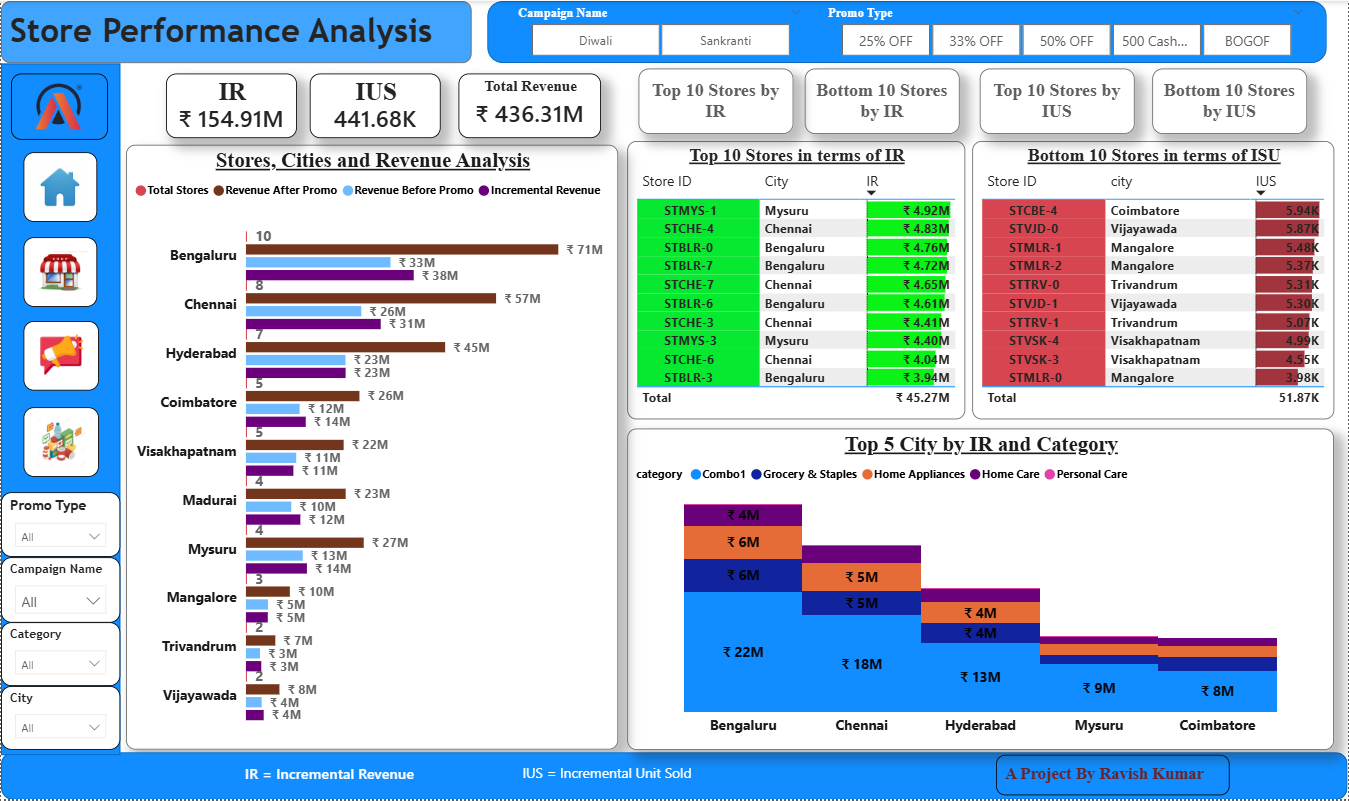

What the dashboard file says about the page in this screenshot:
{"tool":"powerbi","page":{"name":"Store Performance Analysis","canvas":[1300,771],"ordinal":1},"visuals":[{"type":"textbox","box":[0,0,454.2,60.4],"z":0},{"type":"tableEx","title":"Top 10 Stores in terms of IR","fields":{"Values":["dim_stores.store_id","dim_stores.city","Measures (2).Incremental Revenue"]},"box":[605,134.9,326.1,268.4],"z":1000},{"type":"shape","box":[469.6,0,810.7,59.9],"z":2000},{"type":"clusteredBarChart","title":"Stores, Cities and Revenue Analysis","fields":{"Category":["dim_stores.city"],"Y":["CountNonNull(dim_stores.store_id)","Measures (2).Revenue After Promo","Measures (2).Revenue Before Promo","Measures (2).Incremental Revenue"]},"box":[120.5,138.8,475.3,584],"z":3000},{"type":"tableEx","title":"Bottom 10 Stores in terms of ISU","fields":{"Values":["dim_stores.store_id","dim_stores.city","Measures (2).Incremental Unit Sold"]},"box":[937.6,134.9,349.6,268.4],"z":4000},{"type":"shape","box":[0,725.4,1300.3,45.8],"z":5000},{"type":"shape","box":[0,60.2,115.2,667.8],"z":6000},{"type":"card","title":"IR","fields":{"Values":["Measures (2).Incremental Revenue"]},"box":[159.6,70.2,126.4,62.5],"z":7000},{"type":"slicer","title":"Campaign","fields":{"Values":["dim_campaigns.campaign_name"]},"box":[486.8,0,299.1,60.1],"z":8000},{"type":"slicer","title":"Campaign Name","fields":{"Values":["dim_campaigns.campaign_name"]},"box":[0,536.9,115.2,62.9],"z":9000},{"type":"card","title":"IUS","fields":{"Values":["Measures (2).Incremental Unit Sold"]},"box":[298.7,70.2,126.4,62.5],"z":10000},{"type":"slicer","title":"Promo Type","fields":{"Values":["fact_events.promo_type"]},"box":[0,474.3,115.1,62.6],"z":11000},{"type":"image","box":[10,70.1,93.9,63.8],"z":12000},{"type":"textbox","box":[961.1,728.1,225.2,39.3],"z":13000},{"type":"card","title":"Total Revenue","fields":{"Values":["Measures (2).Total Revenue"]},"box":[441.6,70.2,137.9,62.5],"z":14000},{"type":"slicer","title":"Promo Type","fields":{"Values":["fact_events.promo_type"]},"box":[785.9,0,484.3,60.1],"z":15000},{"type":"image","box":[21.3,146.4,71.3,67.6],"z":16000},{"type":"image","box":[21.3,227.8,71.3,67.6],"z":17000},{"type":"image","box":[21.3,309.1,72.6,67.6],"z":18000},{"type":"image","box":[21.3,391.7,72.6,67.6],"z":19000},{"type":"slicer","title":"City","fields":{"Values":["dim_stores.city"]},"box":[0,661.3,115.2,61.5],"z":20000},{"type":"textbox","box":[230.5,732,199,32.7],"z":21000},{"type":"textbox","box":[498.9,732,220,32.7],"z":22000},{"type":"columnChart","title":"Top 5 City by IR and Category","fields":{"Category":["dim_stores.city"],"Series":["dim_products.category"],"Y":["Measures (2).Incremental Revenue"]},"box":[605,412.5,682.2,310.3],"z":23000},{"type":"actionButton","box":[615.4,65.5,149.3,62.9],"z":24000},{"type":"actionButton","box":[776.5,65.5,149.3,62.9],"z":25000},{"type":"actionButton","box":[945.4,65.5,149.3,62.9],"z":26000},{"type":"actionButton","box":[1111.7,65.5,149.3,62.9],"z":27000},{"type":"slicer","title":"Category","fields":{"Values":["dim_products.category"]},"box":[0,599.7,115.2,61.5],"z":30000}]}

Visuals, with their boxes in screenshot pixels (x1, y1, x2, y2), scaled from the page's 1300x771 canvas onto the 1349x801 screenshot:
textbox: {"left": 0, "top": 0, "right": 471, "bottom": 63}
"Top 10 Stores in terms of IR" tableEx: {"left": 628, "top": 140, "right": 966, "bottom": 419}
shape: {"left": 487, "top": 0, "right": 1329, "bottom": 62}
"Stores, Cities and Revenue Analysis" clusteredBarChart: {"left": 125, "top": 144, "right": 618, "bottom": 751}
"Bottom 10 Stores in terms of ISU" tableEx: {"left": 973, "top": 140, "right": 1336, "bottom": 419}
shape: {"left": 0, "top": 754, "right": 1348, "bottom": 800}
shape: {"left": 0, "top": 63, "right": 120, "bottom": 756}
"IR" card: {"left": 166, "top": 73, "right": 297, "bottom": 138}
"Campaign" slicer: {"left": 505, "top": 0, "right": 816, "bottom": 62}
"Campaign Name" slicer: {"left": 0, "top": 558, "right": 120, "bottom": 623}
"IUS" card: {"left": 310, "top": 73, "right": 441, "bottom": 138}
"Promo Type" slicer: {"left": 0, "top": 493, "right": 119, "bottom": 558}
image: {"left": 10, "top": 73, "right": 108, "bottom": 139}
textbox: {"left": 997, "top": 756, "right": 1231, "bottom": 797}
"Total Revenue" card: {"left": 458, "top": 73, "right": 601, "bottom": 138}
"Promo Type" slicer: {"left": 816, "top": 0, "right": 1318, "bottom": 62}
image: {"left": 22, "top": 152, "right": 96, "bottom": 222}
image: {"left": 22, "top": 237, "right": 96, "bottom": 307}
image: {"left": 22, "top": 321, "right": 97, "bottom": 391}
image: {"left": 22, "top": 407, "right": 97, "bottom": 477}
"City" slicer: {"left": 0, "top": 687, "right": 120, "bottom": 751}
textbox: {"left": 239, "top": 760, "right": 446, "bottom": 794}
textbox: {"left": 518, "top": 760, "right": 746, "bottom": 794}
"Top 5 City by IR and Category" columnChart: {"left": 628, "top": 429, "right": 1336, "bottom": 751}
actionButton: {"left": 639, "top": 68, "right": 794, "bottom": 133}
actionButton: {"left": 806, "top": 68, "right": 961, "bottom": 133}
actionButton: {"left": 981, "top": 68, "right": 1136, "bottom": 133}
actionButton: {"left": 1154, "top": 68, "right": 1309, "bottom": 133}
"Category" slicer: {"left": 0, "top": 623, "right": 120, "bottom": 687}
